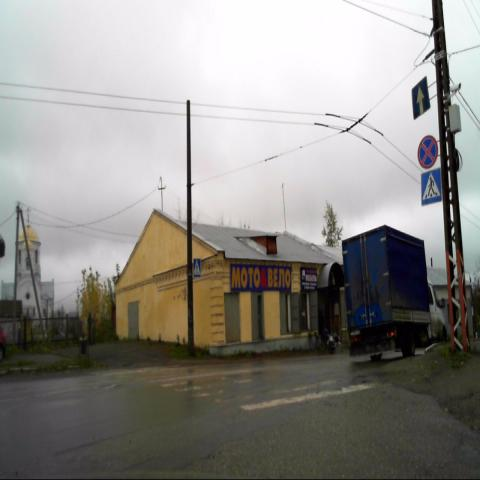3_27: (417, 134, 438, 169)
